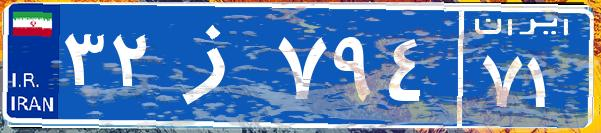1: (525, 38, 570, 115)
2: (110, 28, 158, 105)
3: (57, 26, 110, 107)
4: (385, 28, 445, 110)
7: (273, 28, 330, 110), (475, 38, 525, 113)
9: (330, 28, 385, 110)
ز: (158, 15, 273, 115)
